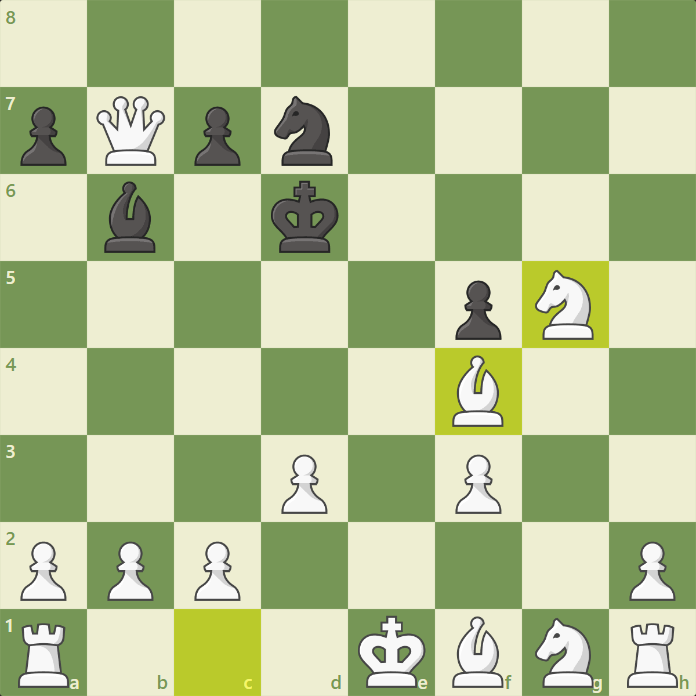B: (448, 614, 506, 693), (450, 352, 508, 430)
K: (355, 614, 429, 691)
N: (532, 269, 598, 345), (533, 614, 595, 691)
P: (14, 539, 71, 605), (102, 539, 159, 605), (187, 540, 244, 606), (275, 452, 332, 518), (450, 452, 507, 518), (628, 539, 680, 605)
Q: (92, 93, 170, 169)
R: (14, 617, 73, 691), (623, 620, 681, 691)
b: (102, 178, 159, 257)
k: (268, 179, 341, 257)
n: (271, 94, 337, 171)
p: (191, 101, 243, 170), (18, 103, 71, 170), (452, 278, 505, 344)
